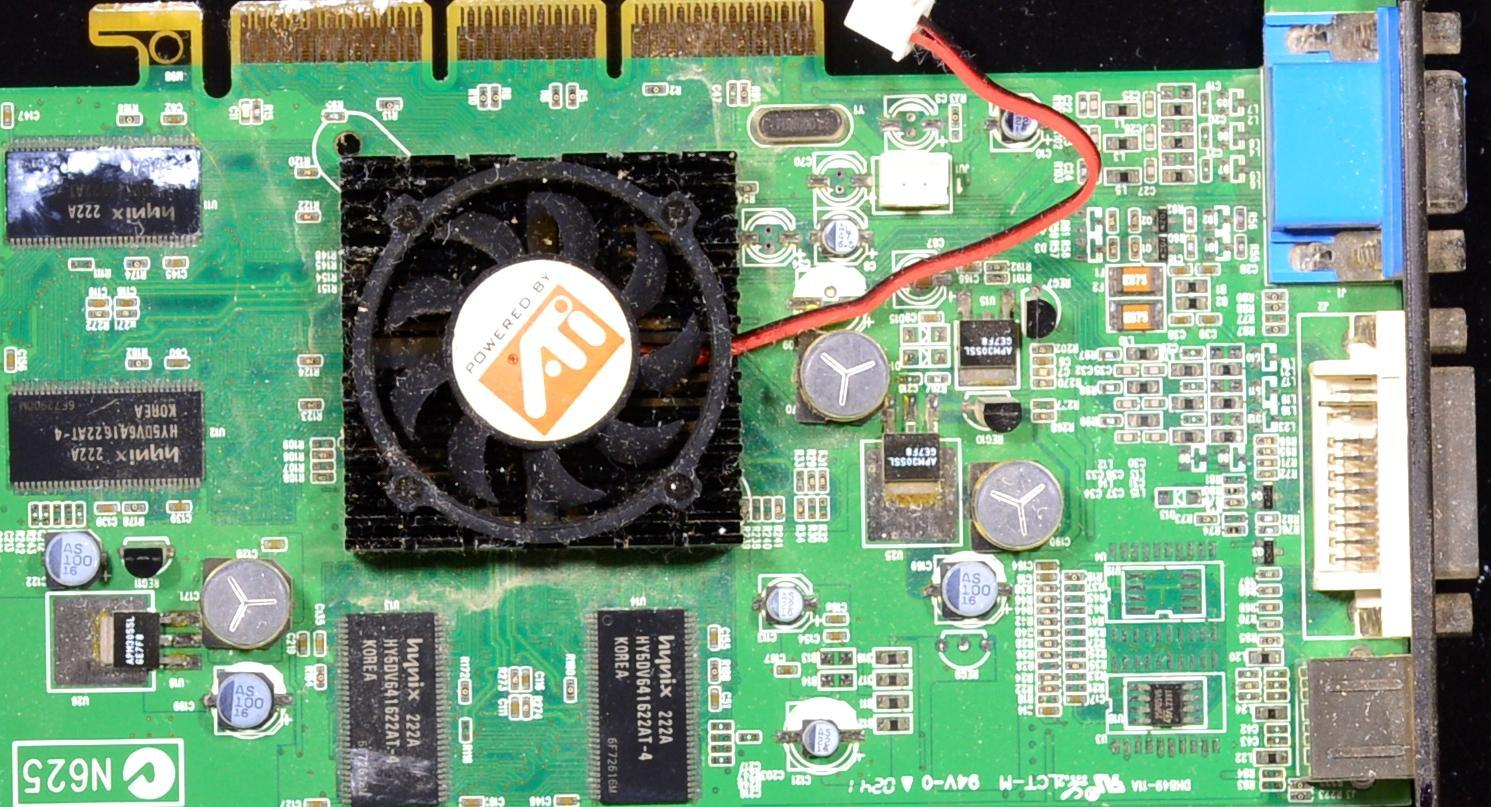Capacitor: (1115, 398, 1141, 412), (776, 664, 800, 679), (1142, 430, 1167, 444), (1168, 264, 1194, 277), (901, 372, 925, 386), (1144, 364, 1169, 377), (1198, 263, 1225, 275), (1199, 92, 1212, 116), (1181, 380, 1207, 392), (1116, 431, 1140, 444), (1143, 398, 1168, 410), (1170, 313, 1193, 326), (240, 100, 252, 124), (707, 628, 720, 650), (1033, 356, 1056, 368), (825, 615, 848, 627), (1090, 94, 1101, 119), (163, 115, 188, 126), (114, 297, 139, 308), (1183, 416, 1208, 427), (1037, 562, 1062, 573), (317, 631, 328, 656), (523, 668, 534, 693), (555, 796, 580, 807), (1144, 94, 1155, 118), (1090, 127, 1101, 151), (1265, 301, 1287, 313), (919, 313, 943, 324), (1199, 314, 1221, 326), (1267, 737, 1291, 748), (1145, 127, 1156, 150), (264, 539, 287, 550), (826, 632, 849, 643), (6, 351, 18, 372), (1202, 125, 1212, 150), (1264, 315, 1289, 325), (1038, 707, 1063, 717), (462, 797, 487, 807), (1264, 325, 1291, 334), (97, 505, 119, 516), (3, 105, 13, 129), (1147, 159, 1157, 183), (1181, 347, 1205, 357), (711, 722, 735, 732), (737, 732, 761, 742), (510, 697, 521, 718), (299, 633, 309, 656), (711, 756, 734, 766), (729, 82, 739, 105), (31, 505, 41, 527), (1265, 292, 1289, 301), (1266, 726, 1290, 735), (1117, 366, 1138, 376), (170, 503, 191, 513), (1203, 159, 1212, 182), (168, 358, 191, 367), (1033, 369, 1056, 378), (306, 798, 329, 807), (90, 297, 110, 307), (1039, 574, 1061, 583), (711, 688, 720, 710), (1066, 695, 1088, 704), (43, 505, 51, 527), (166, 260, 187, 268), (77, 504, 84, 525)
Connector: (1300, 315, 1491, 642), (1257, 1, 1475, 282), (1300, 658, 1433, 778)
IC: (587, 610, 703, 805), (337, 616, 450, 807), (7, 141, 203, 247), (9, 385, 206, 487), (48, 593, 202, 690), (862, 425, 963, 546), (955, 288, 1019, 388), (1124, 569, 1206, 619), (1126, 683, 1206, 731)
Resistor: (549, 84, 564, 108), (461, 719, 474, 746), (927, 373, 952, 387), (477, 86, 490, 112), (488, 86, 502, 110), (1099, 349, 1124, 362), (71, 259, 95, 272), (1099, 415, 1125, 427), (1258, 569, 1284, 581), (1130, 237, 1142, 262), (1108, 238, 1120, 263), (311, 438, 336, 450), (1223, 526, 1248, 538), (1235, 236, 1248, 259), (709, 661, 722, 684), (326, 110, 347, 124), (1260, 602, 1284, 614), (460, 680, 472, 704), (1036, 674, 1062, 685), (709, 743, 735, 754), (1197, 515, 1220, 527), (1129, 210, 1140, 235), (128, 360, 153, 371), (1099, 383, 1124, 394), (1259, 619, 1284, 630), (1259, 636, 1284, 647), (740, 82, 751, 107), (1290, 791, 1317, 801), (252, 99, 263, 123), (1032, 345, 1056, 356), (1225, 513, 1249, 524), (1258, 513, 1280, 525), (711, 733, 735, 744), (1261, 781, 1285, 792), (645, 83, 669, 94), (120, 114, 143, 125), (1235, 208, 1246, 231), (1108, 210, 1119, 233), (1187, 237, 1198, 260), (523, 696, 533, 721), (89, 309, 111, 320), (313, 462, 335, 473), (808, 499, 819, 521), (566, 679, 577, 701), (117, 309, 141, 319), (1255, 436, 1279, 446), (1223, 474, 1247, 484), (1037, 606, 1061, 616), (1261, 770, 1285, 780), (1289, 780, 1313, 790), (299, 212, 320, 223), (314, 473, 335, 484), (1066, 662, 1087, 673), (1078, 94, 1088, 117), (126, 259, 149, 269), (1033, 400, 1056, 410), (1033, 413, 1056, 423), (313, 451, 336, 461), (741, 499, 751, 522), (1259, 586, 1282, 596), (1064, 616, 1087, 626), (1037, 618, 1060, 628), (1037, 640, 1060, 650), (1038, 651, 1061, 661), (569, 84, 579, 107), (298, 168, 318, 179), (1185, 209, 1195, 231), (300, 358, 322, 368), (987, 263, 1011, 272), (298, 401, 322, 410), (1223, 486, 1247, 495), (65, 503, 74, 527), (1038, 662, 1062, 671), (1256, 447, 1277, 457), (1065, 583, 1086, 593), (1033, 379, 1056, 388), (125, 505, 148, 514), (1259, 526, 1282, 535), (511, 669, 520, 692), (1065, 684, 1088, 693), (988, 275, 1008, 285), (1225, 497, 1245, 507), (316, 668, 326, 688), (1258, 470, 1280, 479), (1064, 573, 1086, 582), (1037, 585, 1059, 594), (1065, 651, 1087, 660), (1066, 674, 1088, 683), (1039, 685, 1061, 694), (1038, 695, 1060, 704), (1037, 597, 1061, 605), (1258, 459, 1279, 468), (821, 498, 830, 519), (754, 499, 763, 520), (1065, 629, 1086, 638), (378, 101, 400, 109), (777, 498, 785, 520), (1039, 630, 1061, 638), (797, 472, 805, 493), (797, 499, 805, 520), (54, 504, 62, 525), (1065, 596, 1086, 604), (820, 471, 828, 491), (808, 471, 816, 491), (1066, 639, 1086, 647), (765, 500, 772, 521), (1065, 607, 1086, 614)
Transistor: (1142, 206, 1175, 235), (1203, 235, 1236, 262), (1143, 238, 1176, 264), (1204, 208, 1235, 235), (1253, 541, 1286, 566), (1252, 486, 1285, 510)
